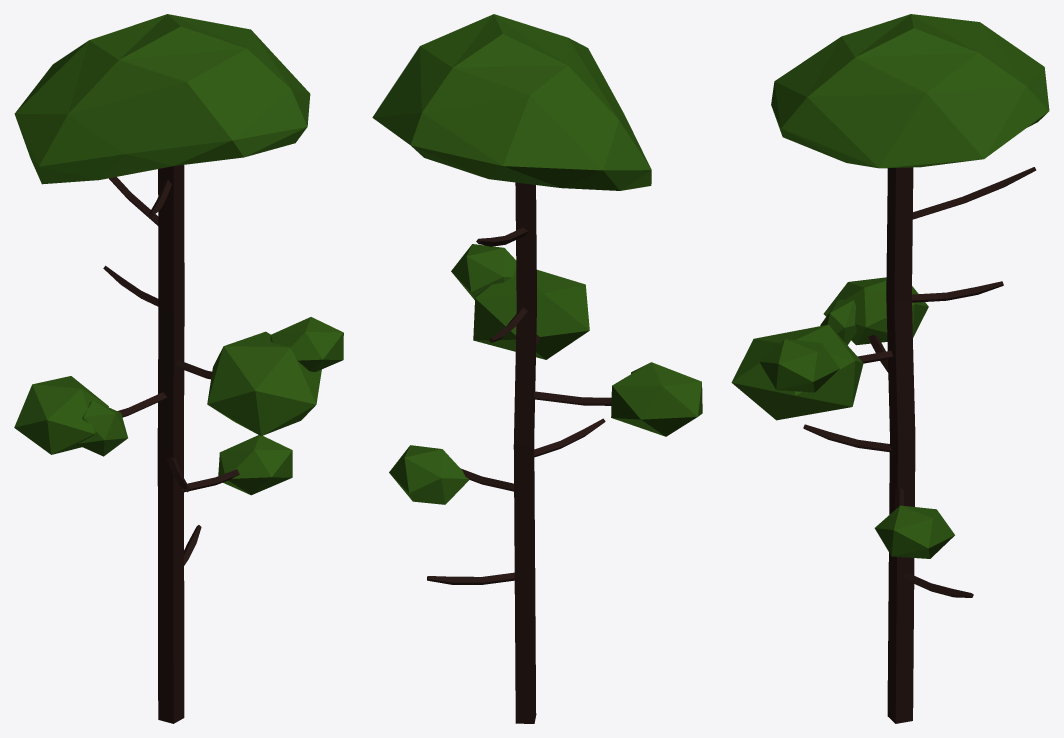
File: SM_tree_d_02.FBX
3 views of the same model, side by side, from view 1: azimuth 30°, elevation 25°; view 2: azimuth 150°, elevation 25°; view 3: azimuth 270°, elevation 25° (orthographic). The views are drawn at different scales.
Parts seen in each view (by area): view 1: Object051; view 2: Object051; view 3: Object051.
Part boxes in pixels (x1,y1,x2,y2): Object051: (14, 14, 343, 723); Object051: (372, 14, 702, 723); Object051: (731, 14, 1049, 723).
Size of the model in its own units: 432 by 963 by 397.
